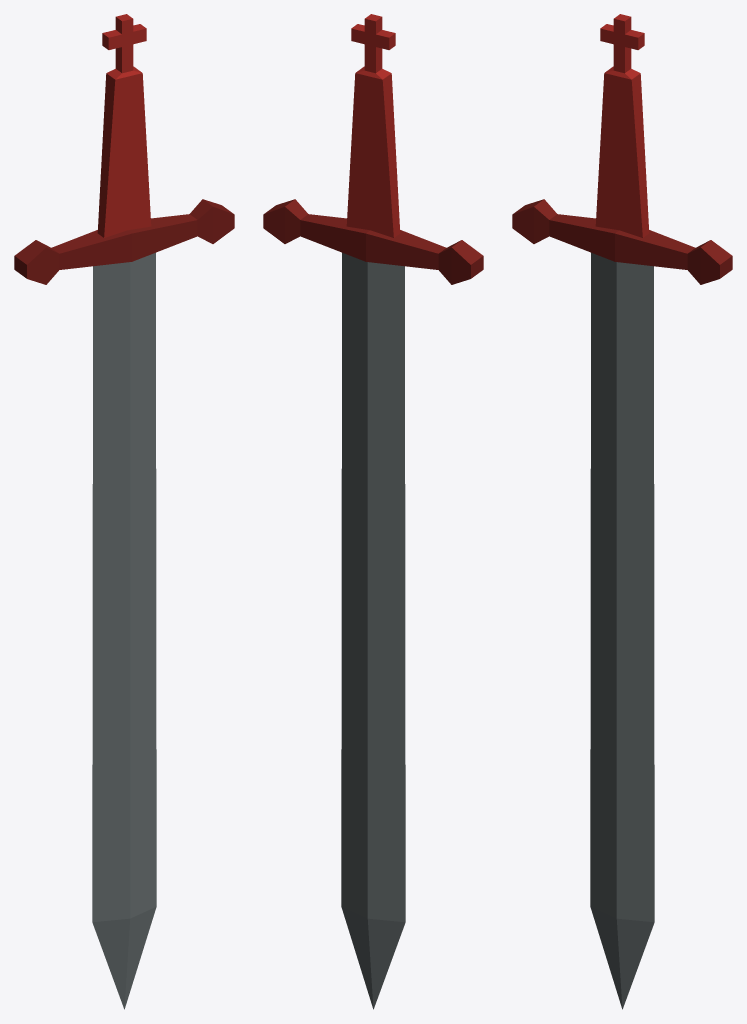
File: Sword_4_Red.fbx
The picture shows the model from 3 angles, left to right: view 1: azimuth 30°, elevation 25°; view 2: azimuth 150°, elevation 25°; view 3: azimuth 330°, elevation 25°; orthographic projection.
Visible parts, largest first — view 1: Sword_4_Red_Part_1, Sword_4_Red_Part_3, Sword_4_Red_Part_2; view 2: Sword_4_Red_Part_1, Sword_4_Red_Part_3, Sword_4_Red_Part_2; view 3: Sword_4_Red_Part_1, Sword_4_Red_Part_3, Sword_4_Red_Part_2.
Boxes of the visible parts, left/top/right/bottom form: Sword_4_Red_Part_1: left=92, top=252, right=156, bottom=1009; Sword_4_Red_Part_3: left=97, top=14, right=151, bottom=237; Sword_4_Red_Part_2: left=14, top=199, right=234, bottom=284; Sword_4_Red_Part_1: left=341, top=252, right=405, bottom=1009; Sword_4_Red_Part_3: left=346, top=14, right=400, bottom=237; Sword_4_Red_Part_2: left=263, top=199, right=483, bottom=284; Sword_4_Red_Part_1: left=590, top=252, right=654, bottom=1009; Sword_4_Red_Part_3: left=595, top=14, right=649, bottom=237; Sword_4_Red_Part_2: left=512, top=199, right=732, bottom=284.
Size of the model in its own units: 26.19 by 120 by 3.34.
